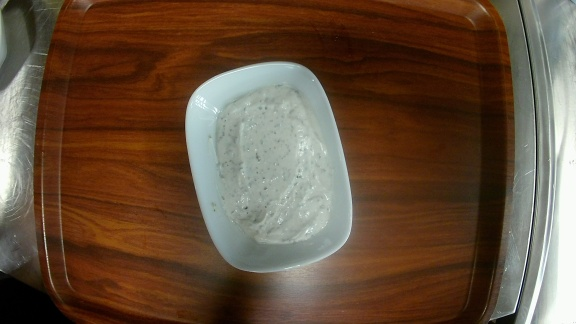haydari: (184, 61, 353, 273)
